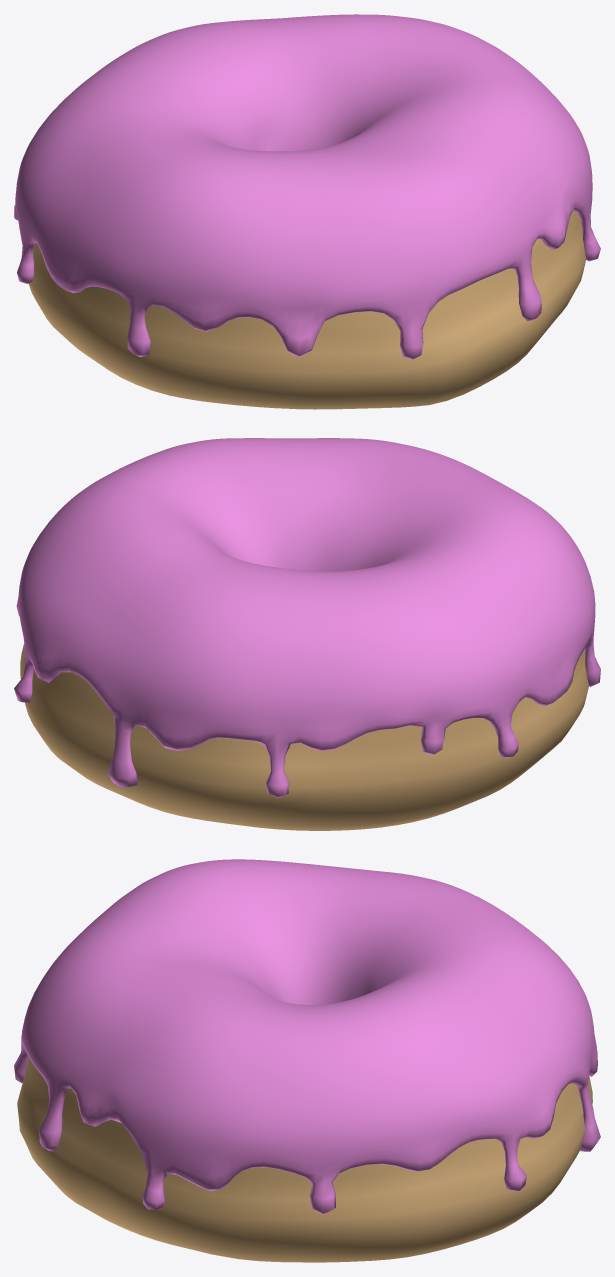
File: donut.glb
3 renders of one model, top to bottom at view 1: azimuth 30°, elevation 25°; view 2: azimuth 150°, elevation 25°; view 3: azimuth 270°, elevation 25°, orthographic.
Visible parts, largest first — view 1: Icing, Donut; view 2: Icing, Donut; view 3: Icing, Donut.
Boxes of the visible parts, x1,y1,x2,y2 form: Icing: (14,14,600,359); Donut: (28,211,586,409); Icing: (14,438,600,797); Donut: (20,643,588,830); Icing: (14,859,600,1214); Donut: (17,1056,592,1262).
Size of what is drawn, in the model's own units: 0.099 by 0.0453 by 0.0981.
